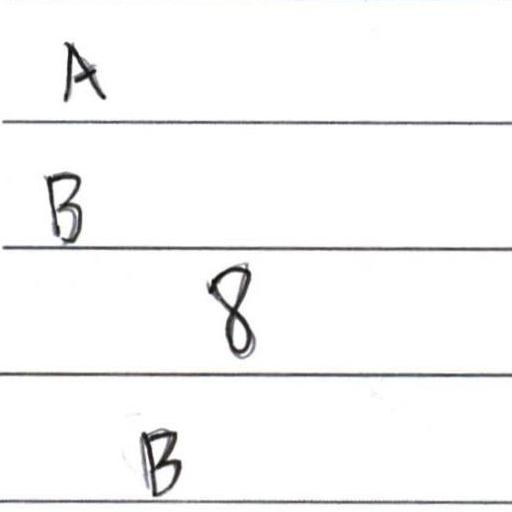ans: (197, 255, 259, 358), (37, 161, 86, 244), (136, 425, 187, 499), (60, 42, 107, 105)
